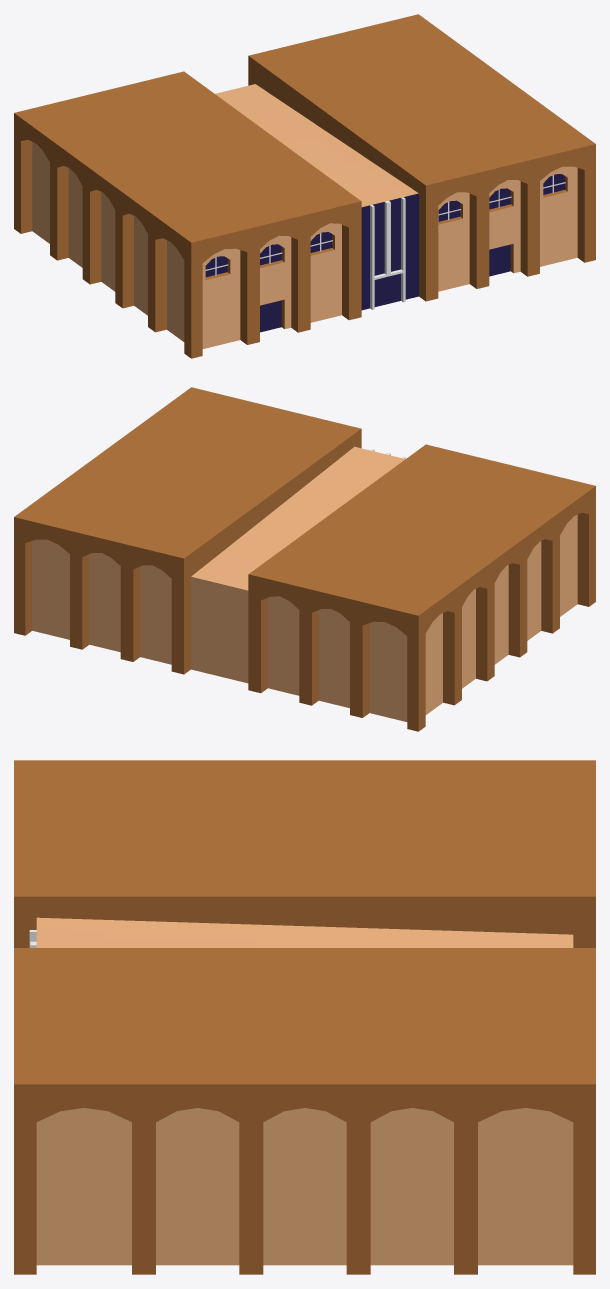
3 views of the same model, one above another, from view 1: azimuth 30°, elevation 25°; view 2: azimuth 150°, elevation 25°; view 3: azimuth 270°, elevation 25° (orthographic). The views are drawn at different scales.
Parts seen in each view (by area): view 1: AD-46; view 2: AD-46; view 3: AD-46.
Boxes of the visible parts, x1,y1,x2,y2 form: AD-46: (14, 14, 595, 358); AD-46: (14, 387, 595, 731); AD-46: (14, 760, 595, 1274).
Bounding box in the file's own units: 32.85 × 9 × 24.95.
Materials: 1 (1 with a texture image).
